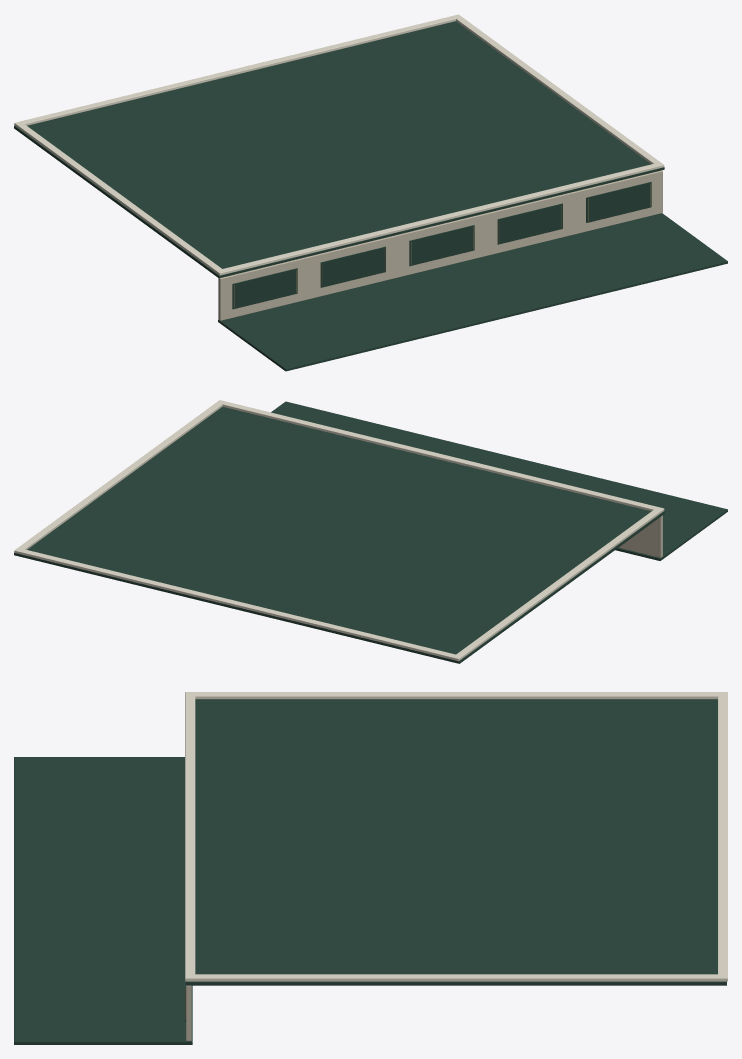
File: meridian-roof.glb
The picture shows the model from 3 angles, top to bottom: view 1: azimuth 30°, elevation 25°; view 2: azimuth 150°, elevation 25°; view 3: azimuth 270°, elevation 25°; orthographic projection. The views are drawn at different scales.
Visible parts, largest first — view 1: Meridian evergreen upholstery.001, Meridian limestone.001, Meridian honed limestone.001; view 2: Meridian evergreen upholstery.001, Meridian honed limestone.001, Meridian limestone.001; view 3: Meridian evergreen upholstery.001, Meridian honed limestone.001.
Part boxes in pixels (left/top/right/bottom): Meridian evergreen upholstery.001: left=14, top=21, right=727, bottom=371; Meridian limestone.001: left=218, top=170, right=662, bottom=320; Meridian honed limestone.001: left=14, top=14, right=664, bottom=275; Meridian evergreen upholstery.001: left=14, top=401, right=727, bottom=663; Meridian honed limestone.001: left=14, top=400, right=664, bottom=661; Meridian limestone.001: left=619, top=515, right=662, bottom=557; Meridian evergreen upholstery.001: left=14, top=699, right=726, bottom=1044; Meridian honed limestone.001: left=185, top=692, right=727, bottom=981.
Size of the model in its own units: 40.3 by 4.42 by 42.35.
